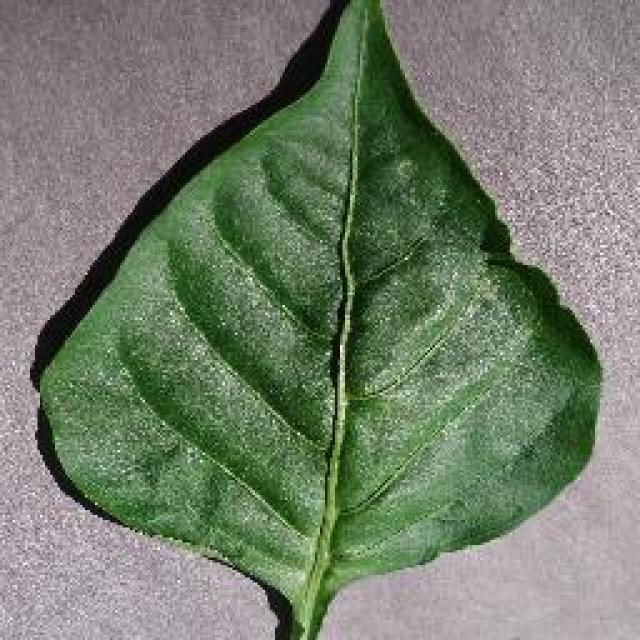Chilli_Healthy: (32, 0, 602, 638)
